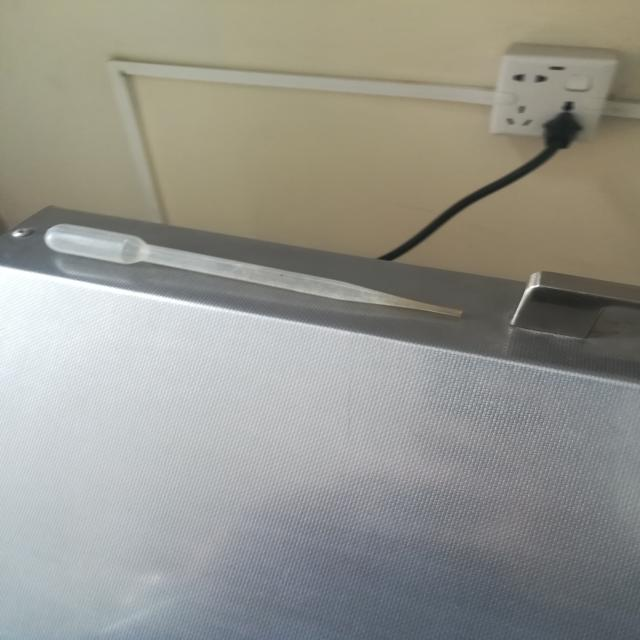Pipette: (26, 200, 499, 362)
